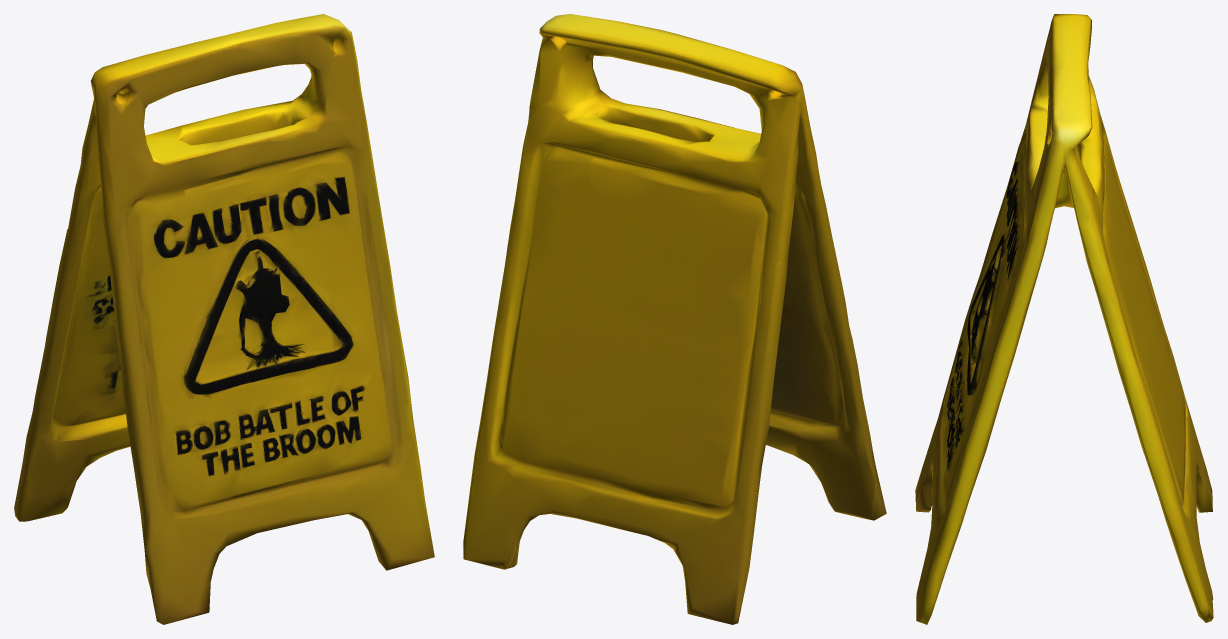
Rendered from prop_wet_sign_tripo_20261113.glb.
3 views of the same model, side by side, from view 1: azimuth 30°, elevation 25°; view 2: azimuth 150°, elevation 25°; view 3: azimuth 270°, elevation 25° (orthographic).
Parts seen in each view (by area): view 1: tripo_node_e05dcbd3-0b5a-44b8-af4c-0d9ca356bdfa; view 2: tripo_node_e05dcbd3-0b5a-44b8-af4c-0d9ca356bdfa; view 3: tripo_node_e05dcbd3-0b5a-44b8-af4c-0d9ca356bdfa.
Part boxes in pixels (x1=…): tripo_node_e05dcbd3-0b5a-44b8-af4c-0d9ca356bdfa: x1=14, y1=14, x2=434, y2=624; tripo_node_e05dcbd3-0b5a-44b8-af4c-0d9ca356bdfa: x1=463, y1=14, x2=886, y2=624; tripo_node_e05dcbd3-0b5a-44b8-af4c-0d9ca356bdfa: x1=915, y1=14, x2=1213, y2=624.
Bounding box in the file's own units: 0.5839 × 1 × 0.5442.
Materials: 1 (1 with a texture image).
